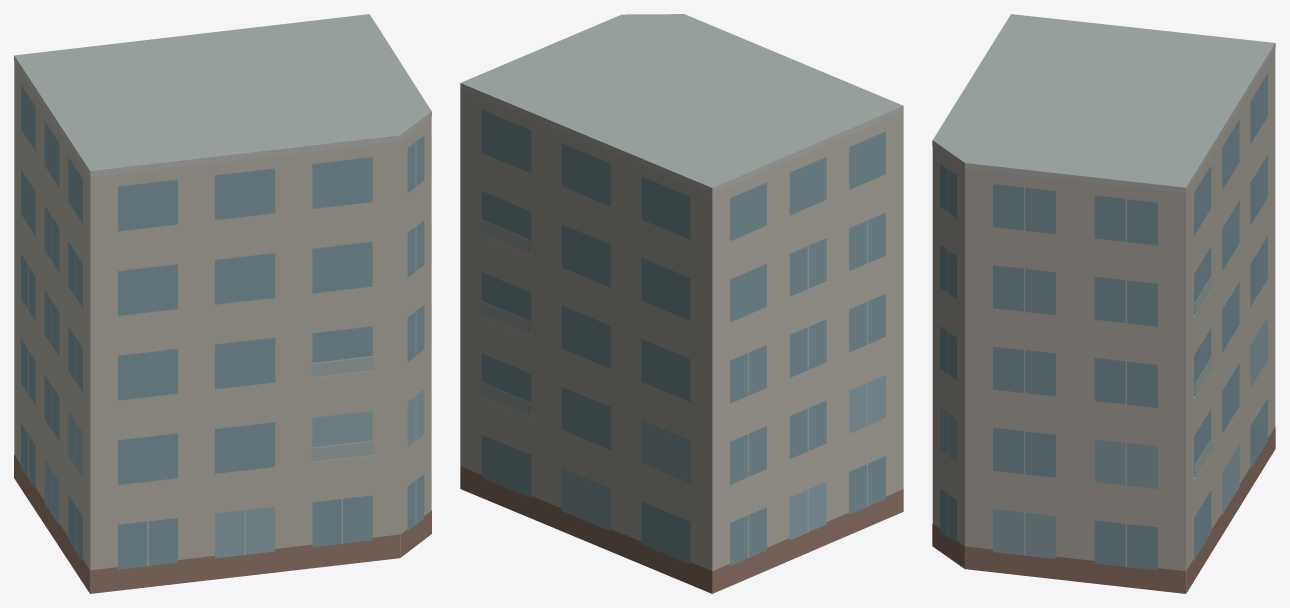
File: survey-upis-32545955.glb
The picture shows the model from 3 angles, left to right: view 1: azimuth 30°, elevation 25°; view 2: azimuth 150°, elevation 25°; view 3: azimuth 270°, elevation 25°; orthographic projection. The views are drawn at different scales.
Parts seen in each view (by area): view 1: survey-upis-32545955.tmp; view 2: survey-upis-32545955.tmp; view 3: survey-upis-32545955.tmp.
Boxes of the visible parts, x1=… form: survey-upis-32545955.tmp: x1=14, y1=14, x2=431, y2=593; survey-upis-32545955.tmp: x1=460, y1=14, x2=903, y2=593; survey-upis-32545955.tmp: x1=932, y1=14, x2=1275, y2=593.
Size of the model in its own units: 15.83 by 17.25 by 13.21.
